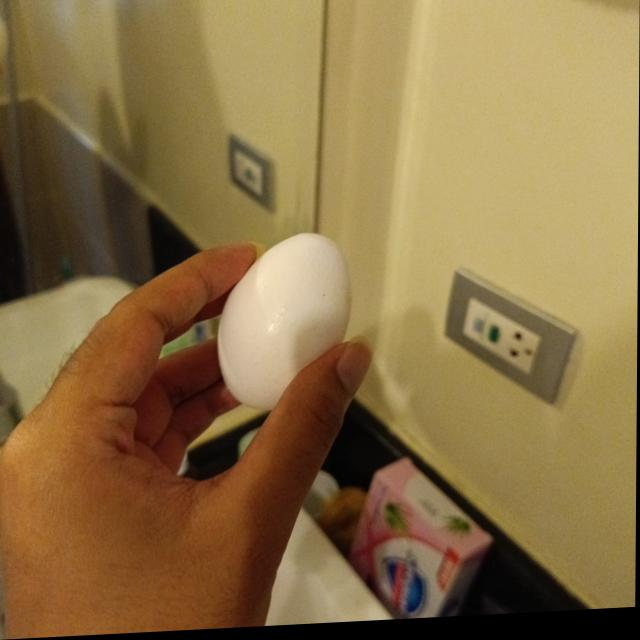egg: (217, 233, 349, 407)
